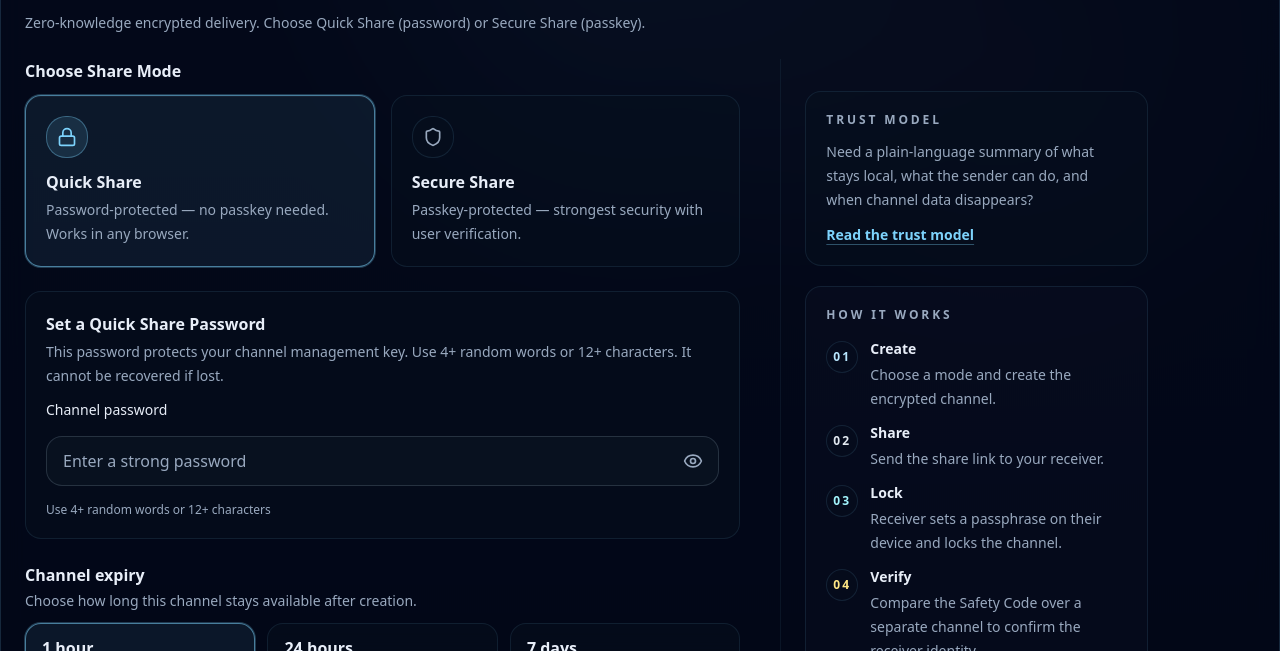
Test: CreatePage integration › clears error when mode is switched
Click the button with test id "mode-card-secure" at [433, 137], box [391,95,740,267]
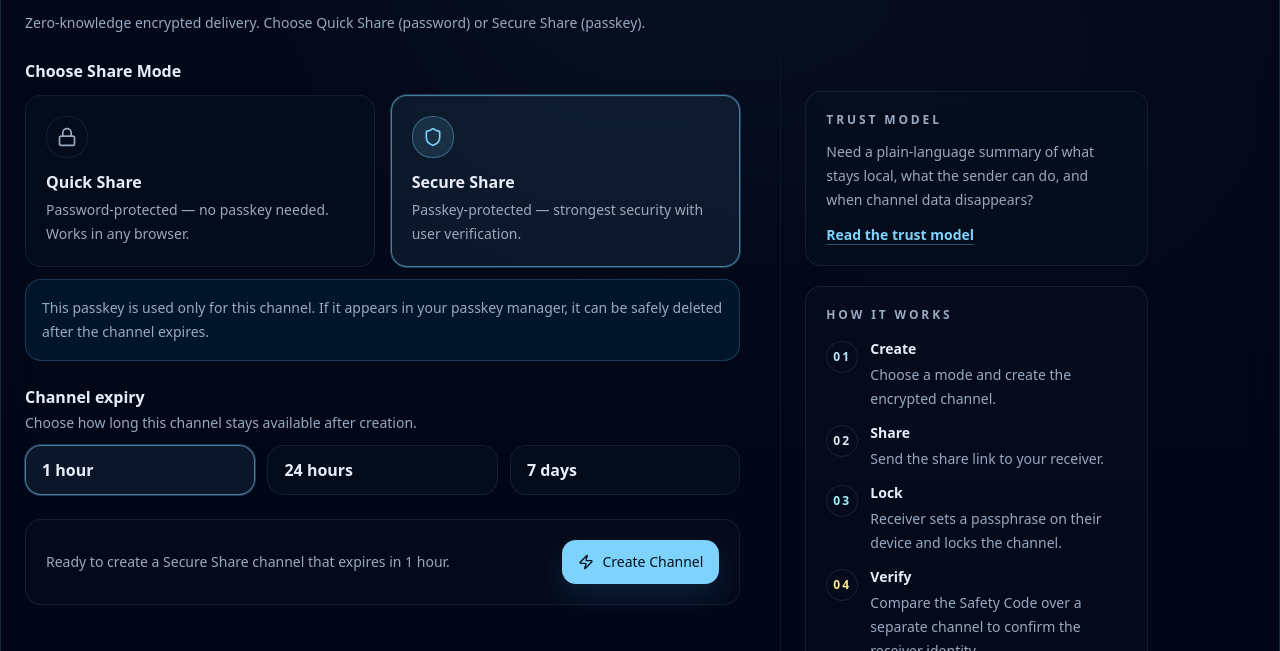
Click the button with test id "create-submit-button" at [641, 562], box [562,540,719,584]
(page scrolled)
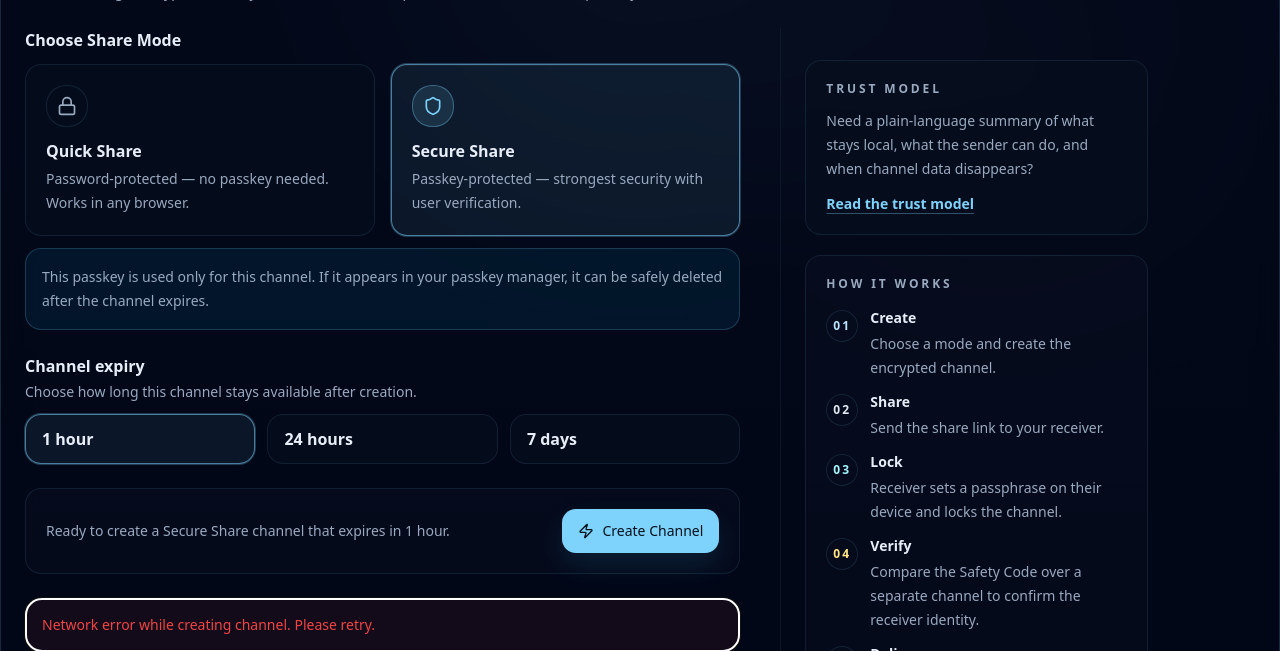
Check: the message "Network error while creating channel. Please retry." is shown, box [25,598,740,650]
Click the button with test id "mode-card-quick" at [67, 106], box [25,64,375,236]
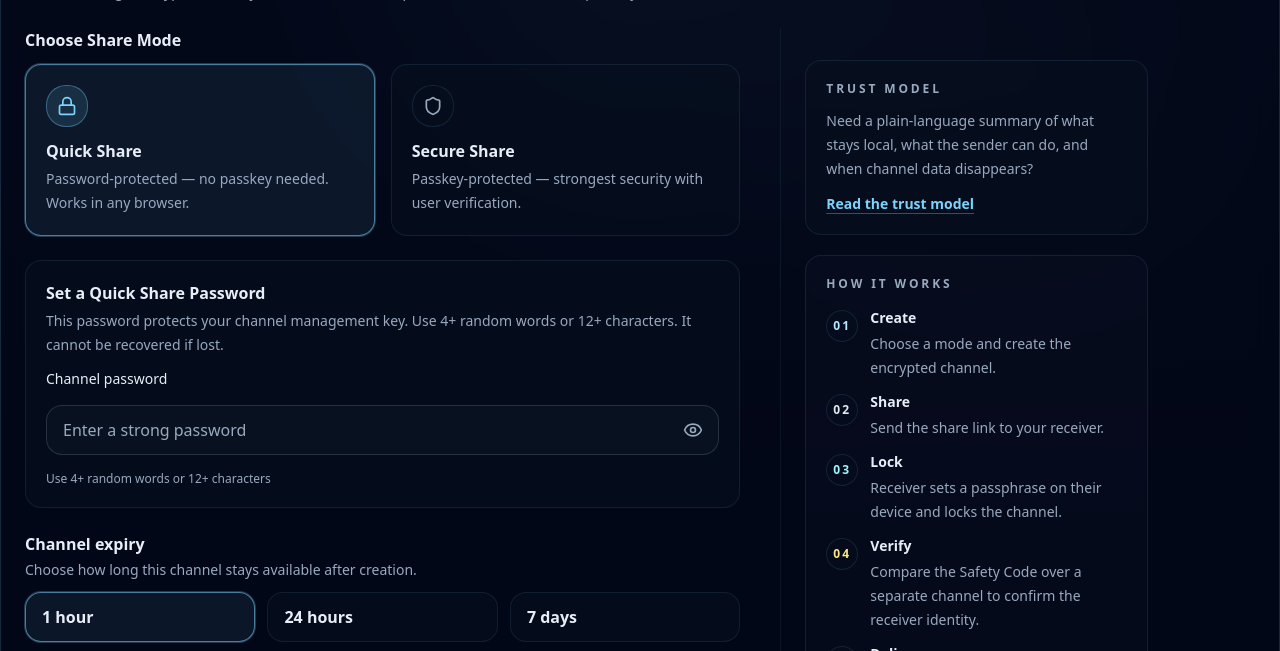
Check: the message with test id "create-submit-error" is gone
